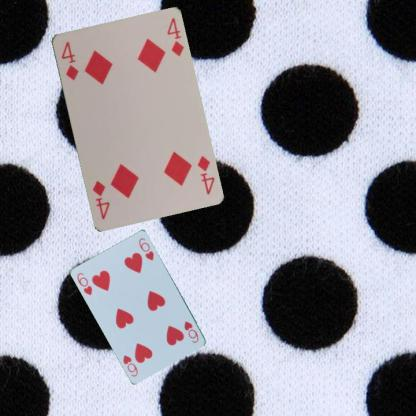4d: (194, 152, 216, 196), (58, 38, 80, 81)
6h: (74, 270, 94, 296), (181, 318, 200, 344)
